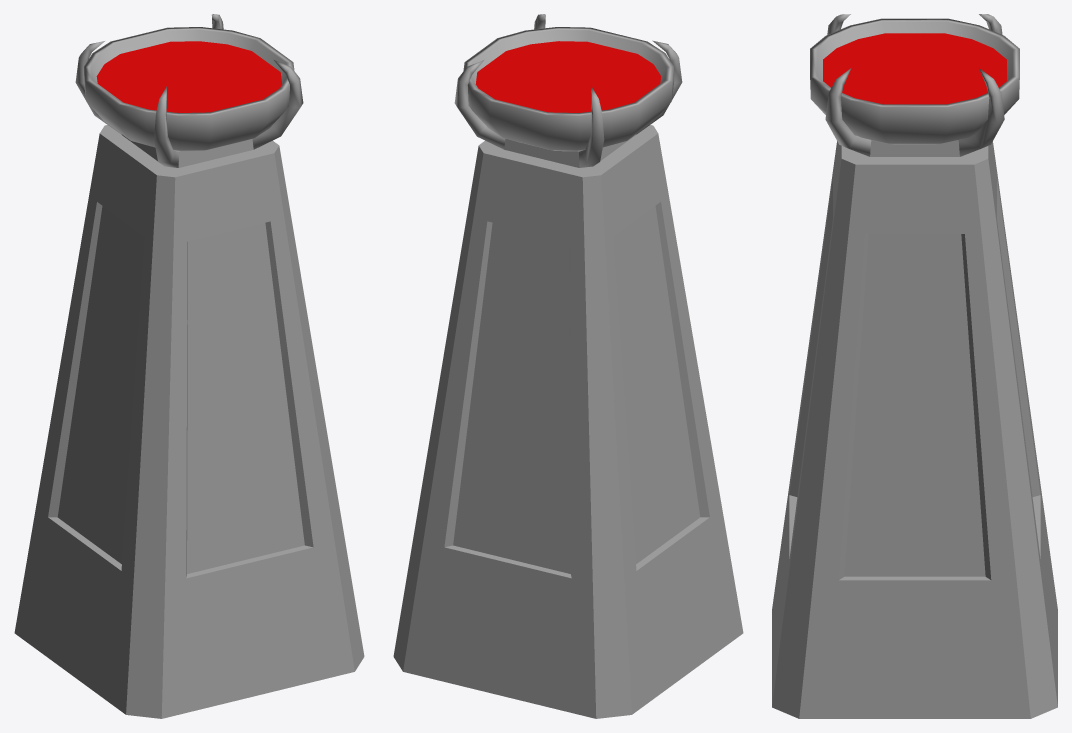
Rendered from BloodBowl.fbx.
The picture shows the model from 3 angles, left to right: view 1: azimuth 30°, elevation 25°; view 2: azimuth 150°, elevation 25°; view 3: azimuth 270°, elevation 25°; orthographic projection. The views are drawn at different scales.
Visible parts, largest first — view 1: BloodBowl; view 2: BloodBowl; view 3: BloodBowl.
Boxes of the visible parts, bbox=[...] form: BloodBowl: bbox=[14, 14, 364, 718]; BloodBowl: bbox=[393, 14, 743, 718]; BloodBowl: bbox=[772, 14, 1057, 718].
Bounding box in the file's own units: 51.81 × 123 × 51.81.
